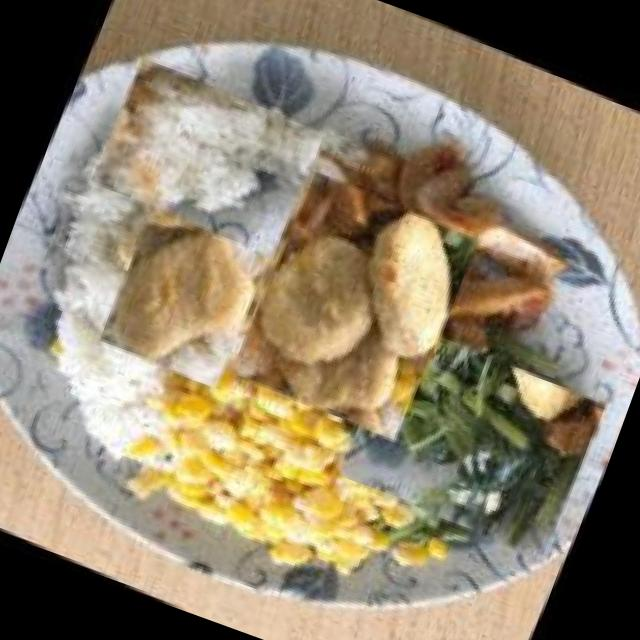chicken_nuggets: (217, 168, 492, 444), (90, 192, 289, 390)
rice: (82, 48, 332, 264)
water_spinach: (337, 304, 606, 574)
